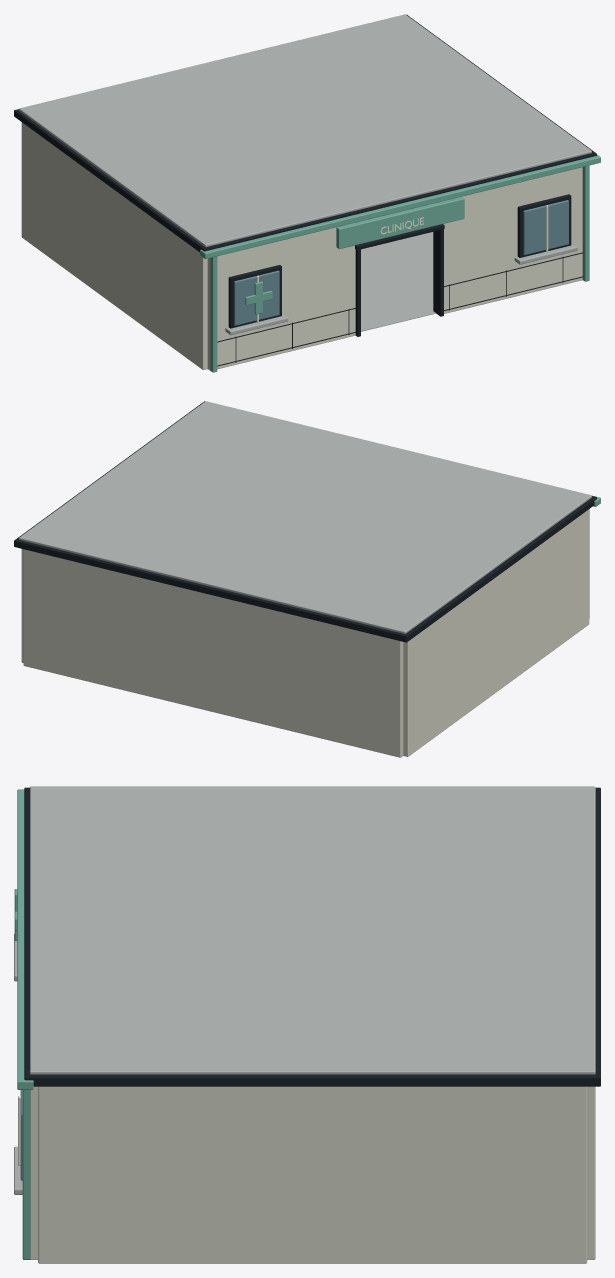
File: clinic.glb
The picture shows the model from 3 angles, top to bottom: view 1: azimuth 30°, elevation 25°; view 2: azimuth 150°, elevation 25°; view 3: azimuth 270°, elevation 25°; orthographic projection. The views are drawn at different scales.
Parts seen in each view (by area): view 1: RoofSurface, LeftWall, FrontPier, FrontPier.001, InteriorFloor, RoofSlab, FacadeCornice, SignBacking, WindowPane.001, WindowPane, DoorJamb.001, CornerColumn (+5 smaller); view 2: RoofSurface, RearWall, LeftWall, RoofSlab; view 3: RoofSurface, RightWall, RoofSlab, FacadeCornice, RearWall, CornerColumn.001, FrontPier.001.
Boxes of the visible parts, x1,y1,x2,y2 form: RoofSurface: (19,14,591,247); LeftWall: (21,122,207,369); FrontPier: (207,223,355,370); FrontPier.001: (442,167,582,313); InteriorFloor: (207,232,435,369); RoofSlab: (14,14,596,252); FacadeCornice: (200,154,600,258); SignBacking: (336,197,464,249); WindowPane.001: (523,200,568,255); WindowPane: (234,270,279,325); DoorJamb.001: (433,228,443,316); CornerColumn: (210,256,217,372); RoofSurface: (19,401,591,633); RearWall: (23,549,403,757); LeftWall: (403,509,589,756); RoofSlab: (14,401,596,642); RoofSurface: (30,786,595,1074); RightWall: (38,1086,587,1263); RoofSlab: (24,787,600,1086); FacadeCornice: (17,789,33,1089); RearWall: (587,1086,595,1259); CornerColumn.001: (22,1090,30,1259); FrontPier.001: (30,1086,37,1259).
Size of the model in its own units: 12.6 by 3.87 by 10.69.
